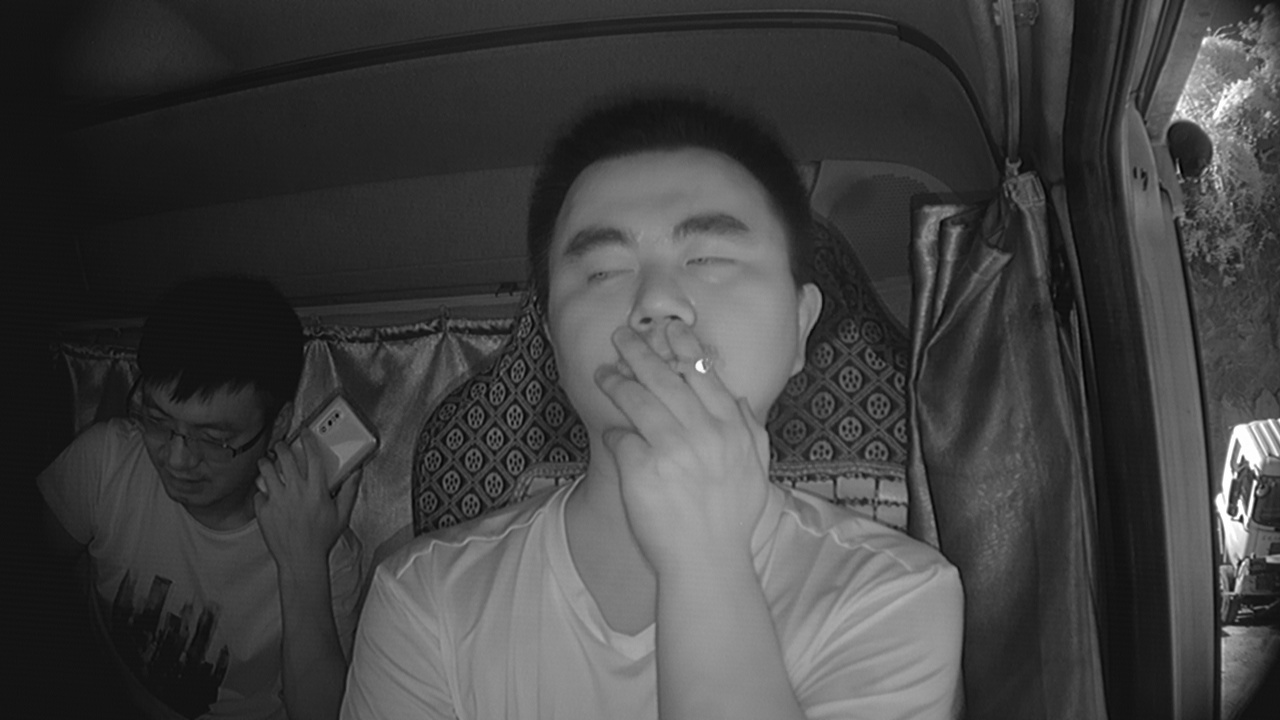hand: (593, 335, 765, 539)
